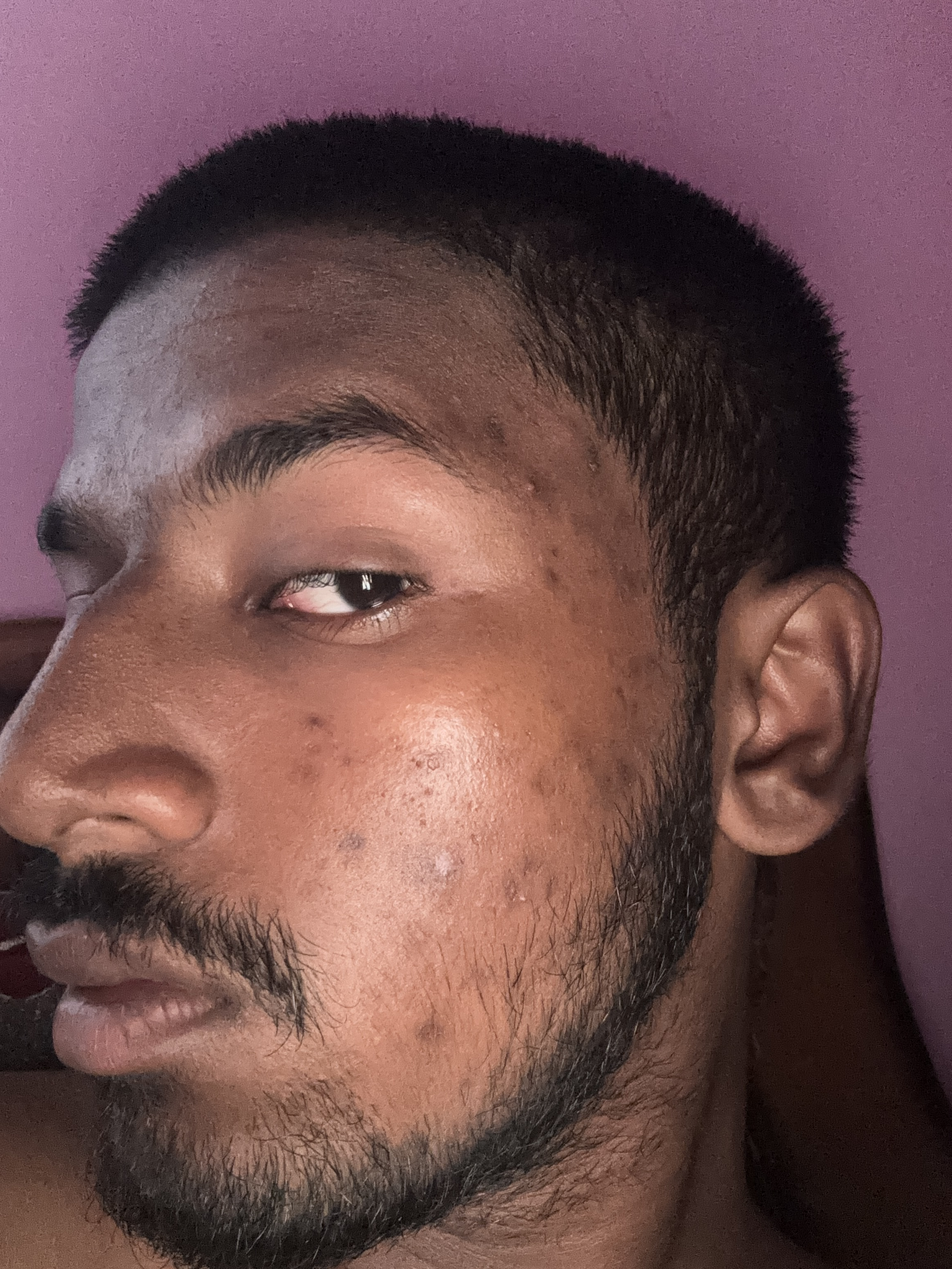closed_comedone: (86, 650, 134, 688), (65, 658, 86, 691)
open_comedone: (0, 737, 33, 812), (35, 792, 107, 812), (30, 694, 63, 728), (12, 717, 29, 737)
papule: (521, 483, 537, 496)
pustule: (518, 895, 527, 903)
